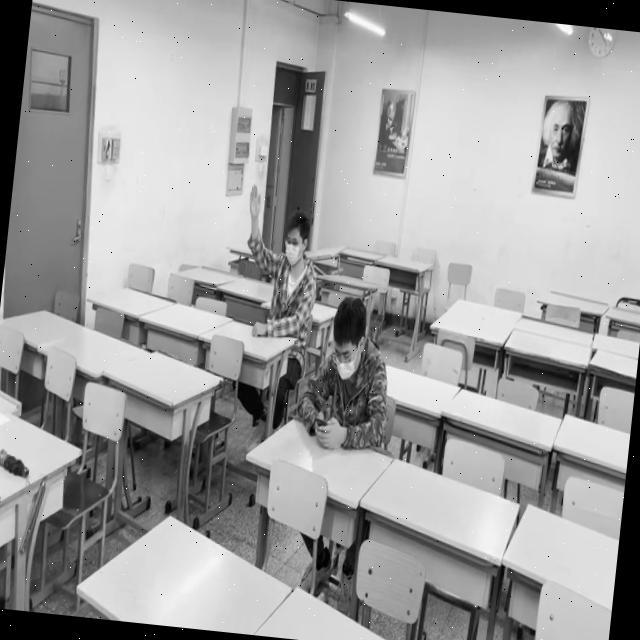phone: (302, 294, 399, 452)
study: (234, 183, 327, 338)
